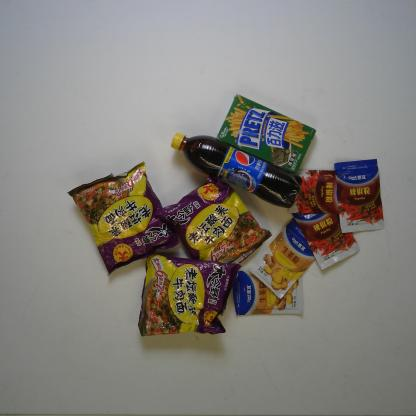Dessert: (215, 93, 317, 174)
Drink: (167, 130, 304, 210)
Instant Noodles: (64, 160, 181, 278), (158, 174, 273, 271), (136, 252, 242, 337)
Seasoner: (248, 212, 324, 299), (294, 188, 360, 270), (232, 259, 306, 316), (332, 156, 385, 234), (293, 162, 361, 214)
